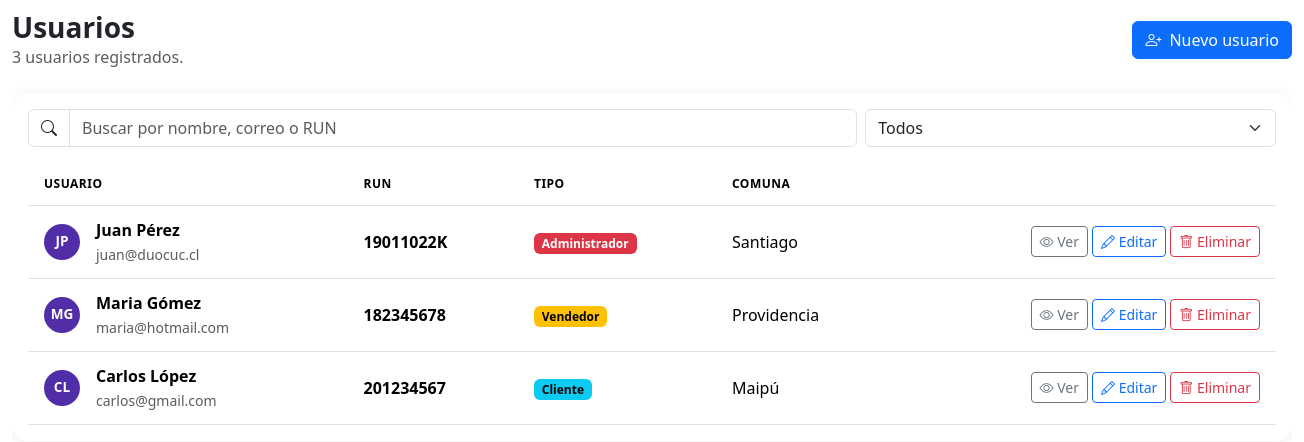
it: admin/views/UsuariosView › muestra un mensaje cuando nada coincide
Type "zzzz" into the search field named "Buscar usuarios" at {"x": 463, "y": 128}, box [69, 109, 857, 147]
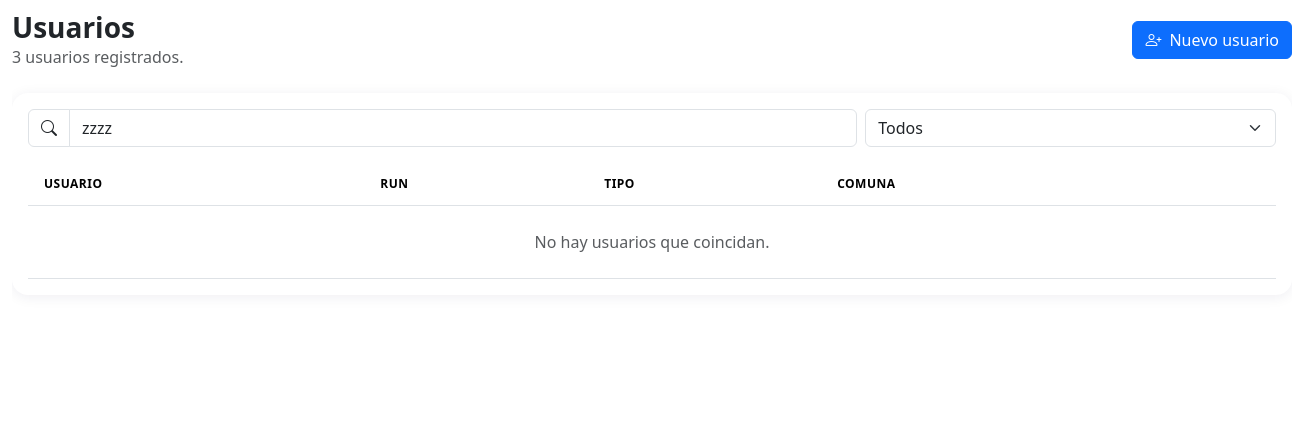
Expected: the text "No hay usuarios que coincidan." is shown, [28, 205, 1276, 278]
